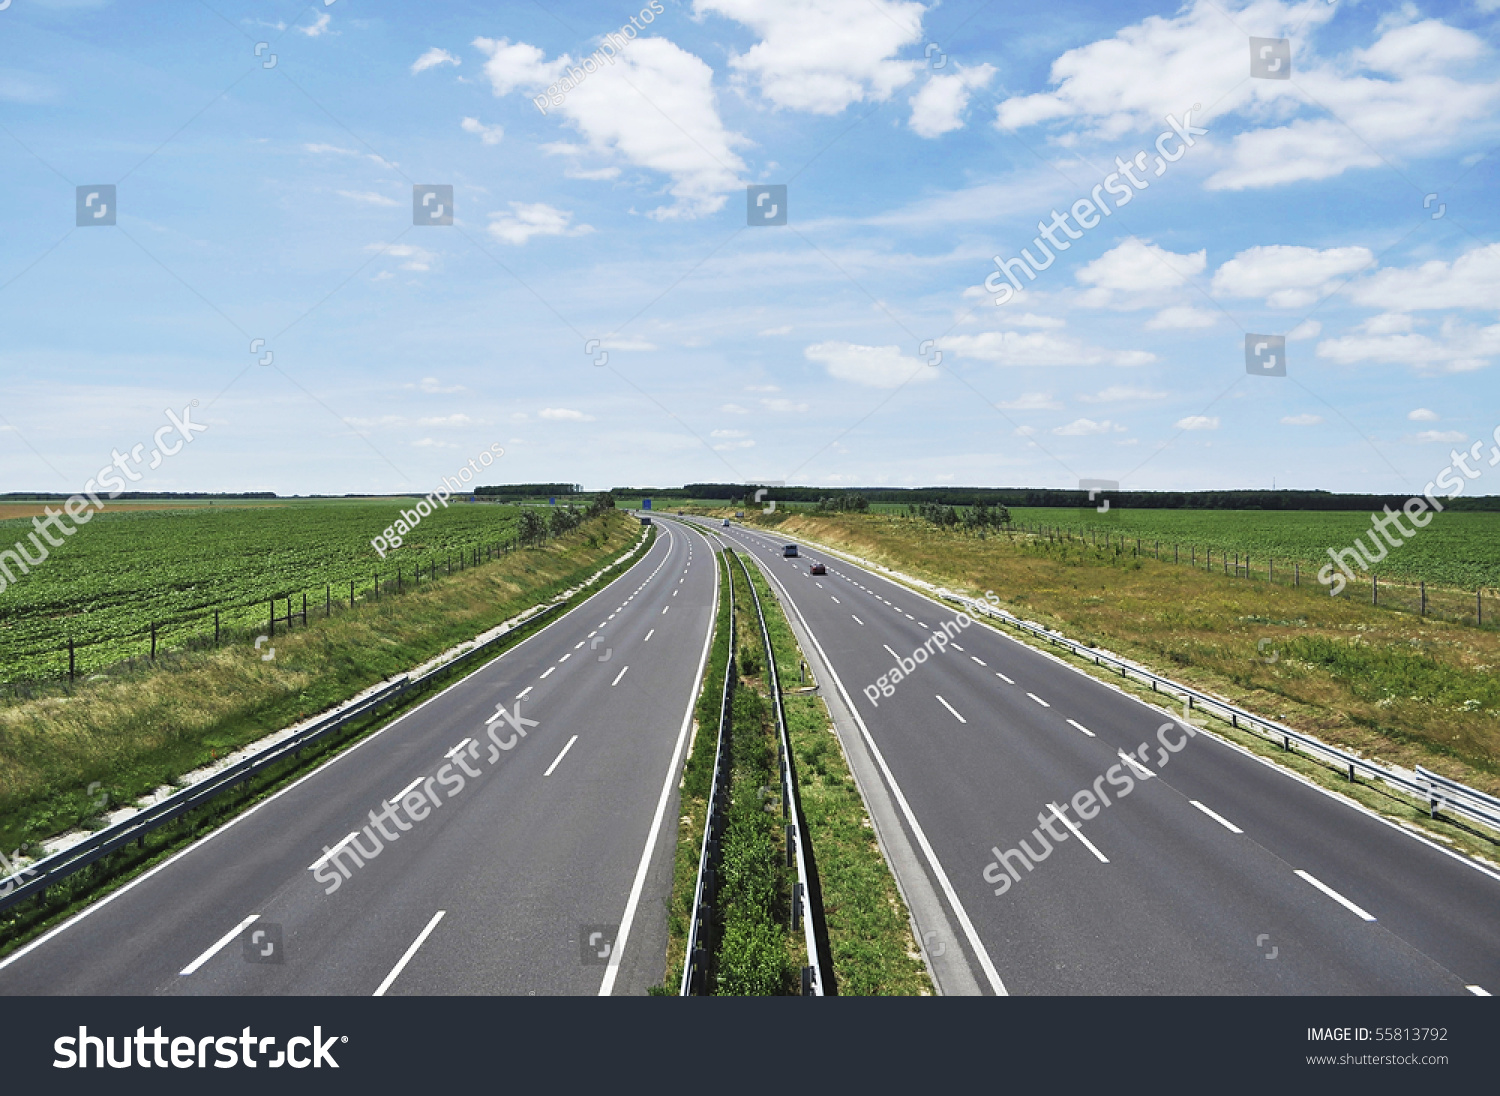LaneMark: (367, 904, 457, 998), (179, 907, 261, 978), (1292, 868, 1380, 929), (1042, 796, 1101, 868), (1180, 793, 1251, 844), (538, 729, 587, 786), (931, 683, 975, 734), (512, 660, 557, 703), (1057, 714, 1098, 745), (604, 660, 634, 688), (993, 669, 1016, 697)
